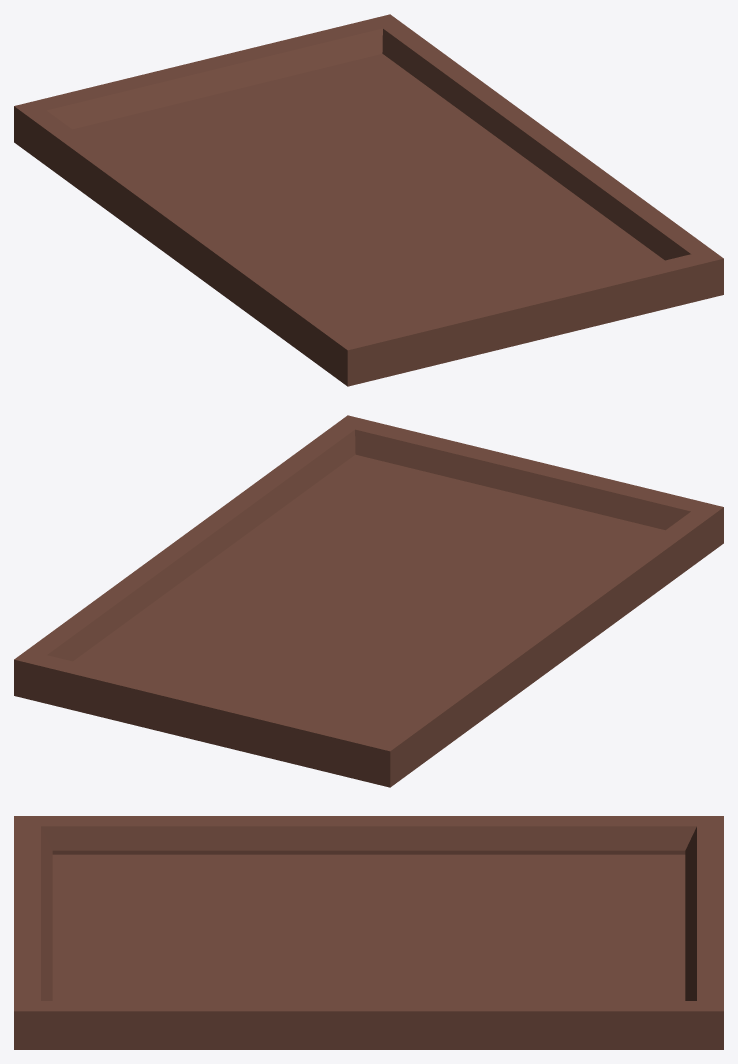
Rendered from PaintingsGrayed.fbx.
The picture shows the model from 3 angles, top to bottom: view 1: azimuth 30°, elevation 25°; view 2: azimuth 150°, elevation 25°; view 3: azimuth 270°, elevation 25°; orthographic projection. The views are drawn at different scales.
Parts seen in each view (by area): view 1: Cube; view 2: Cube; view 3: Cube.
Part boxes in pixels (x1,y1,x2,y2): Cube: (14,14,723,386); Cube: (14,415,723,787); Cube: (14,816,723,1049).
Bounding box in the file's own units: 78.91 × 7.27 × 121.
